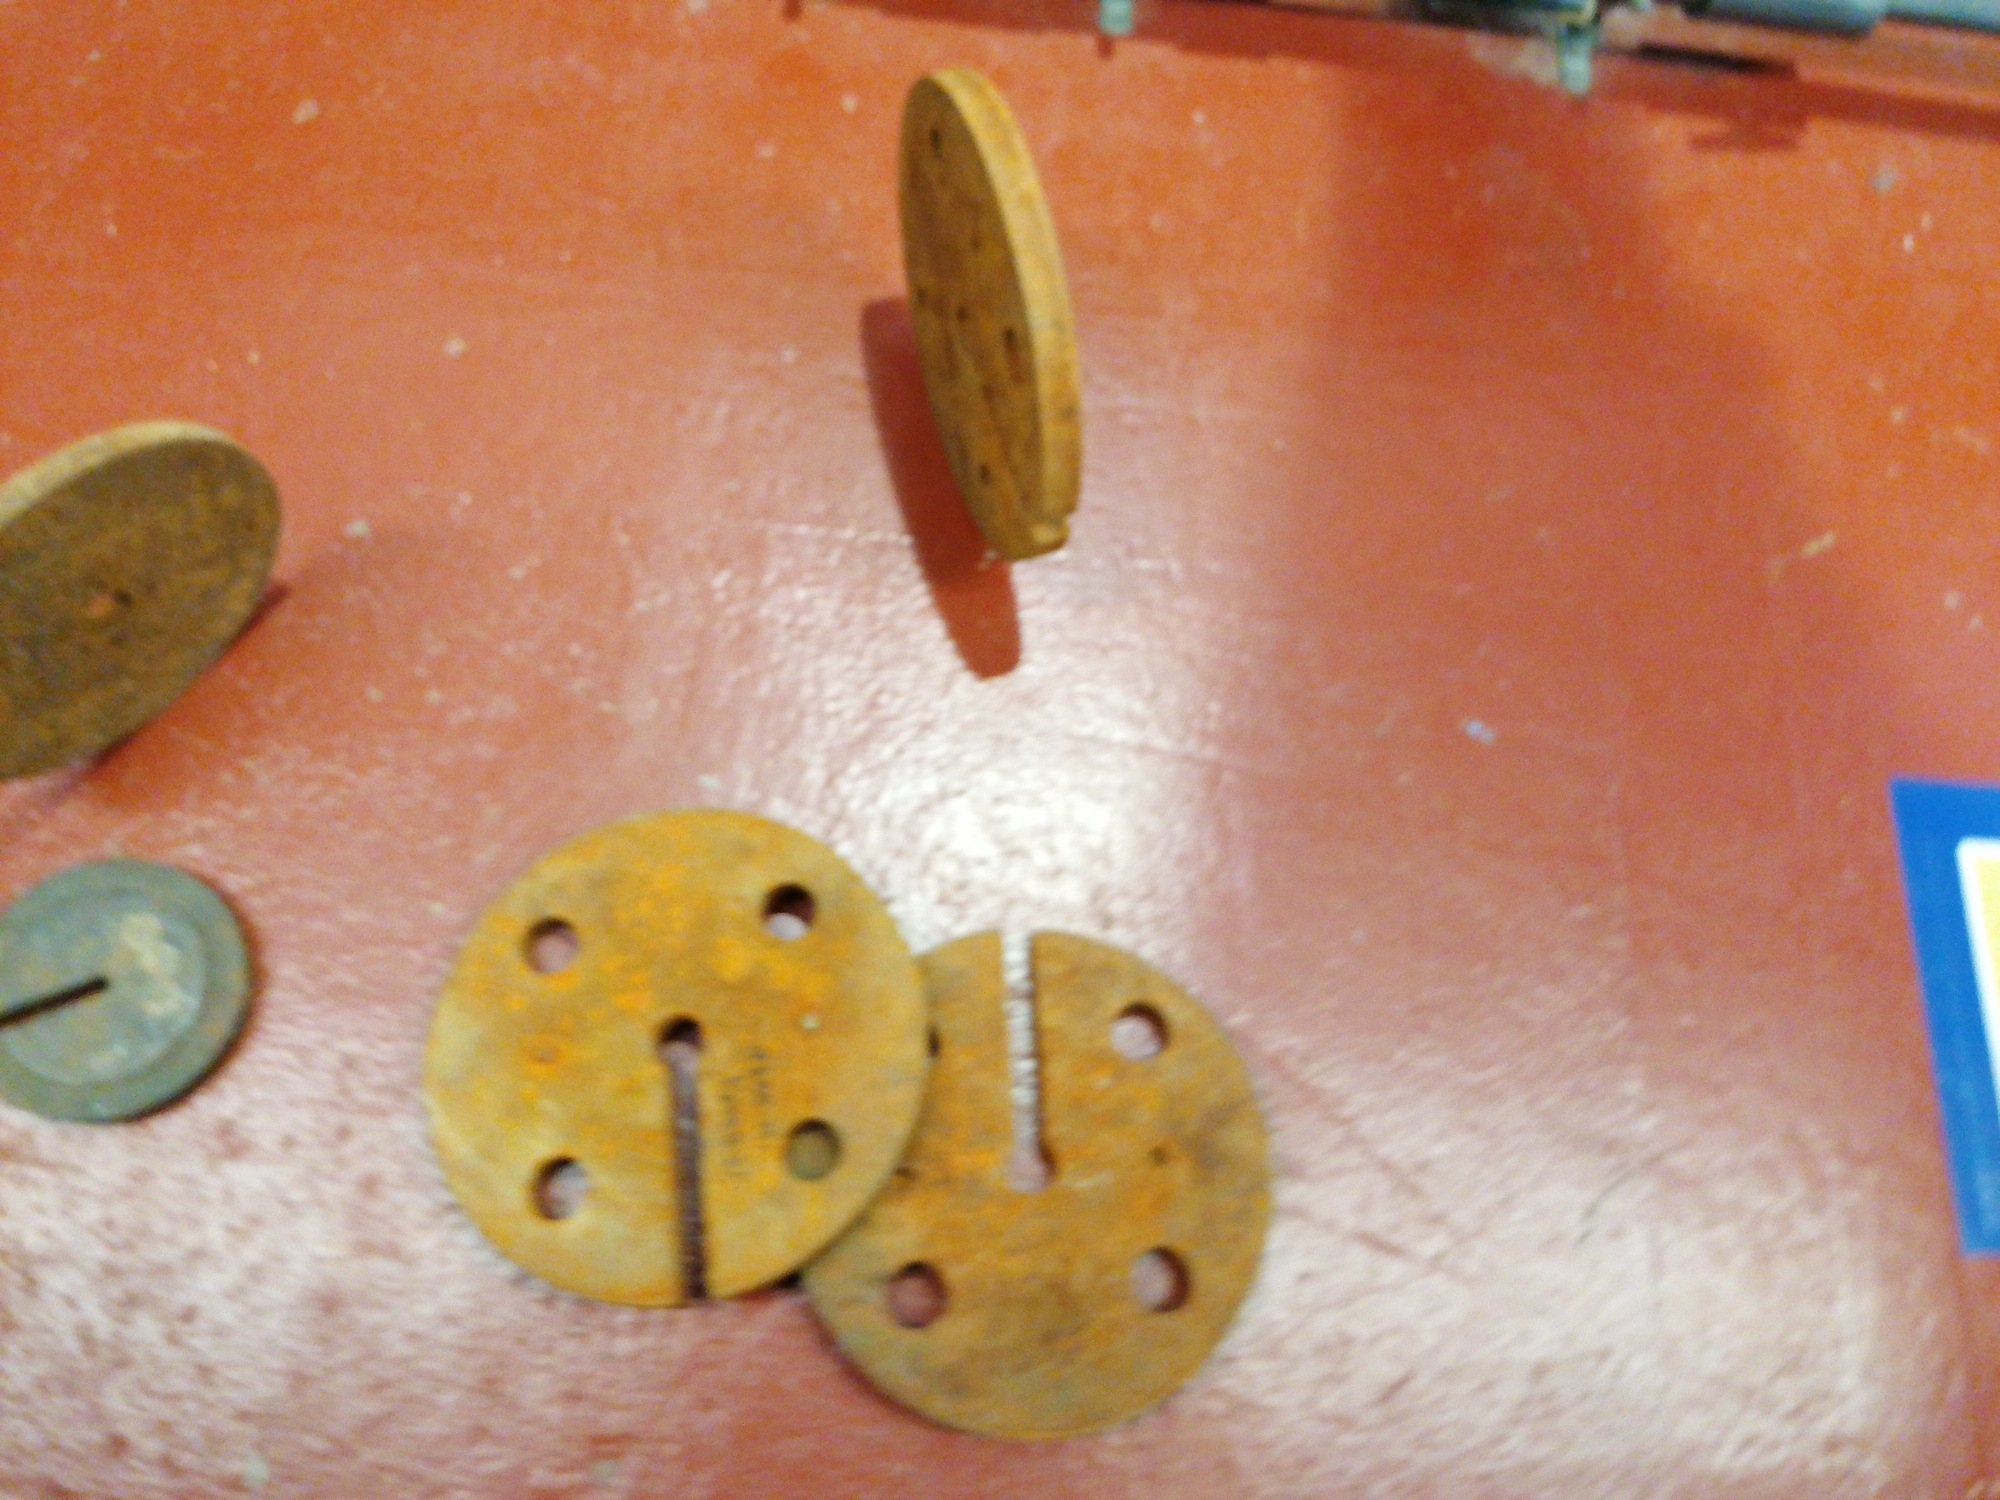flange: (419, 810, 929, 1311), (802, 928, 1269, 1446), (2, 416, 283, 782), (896, 68, 1087, 562), (2, 857, 258, 1120)
